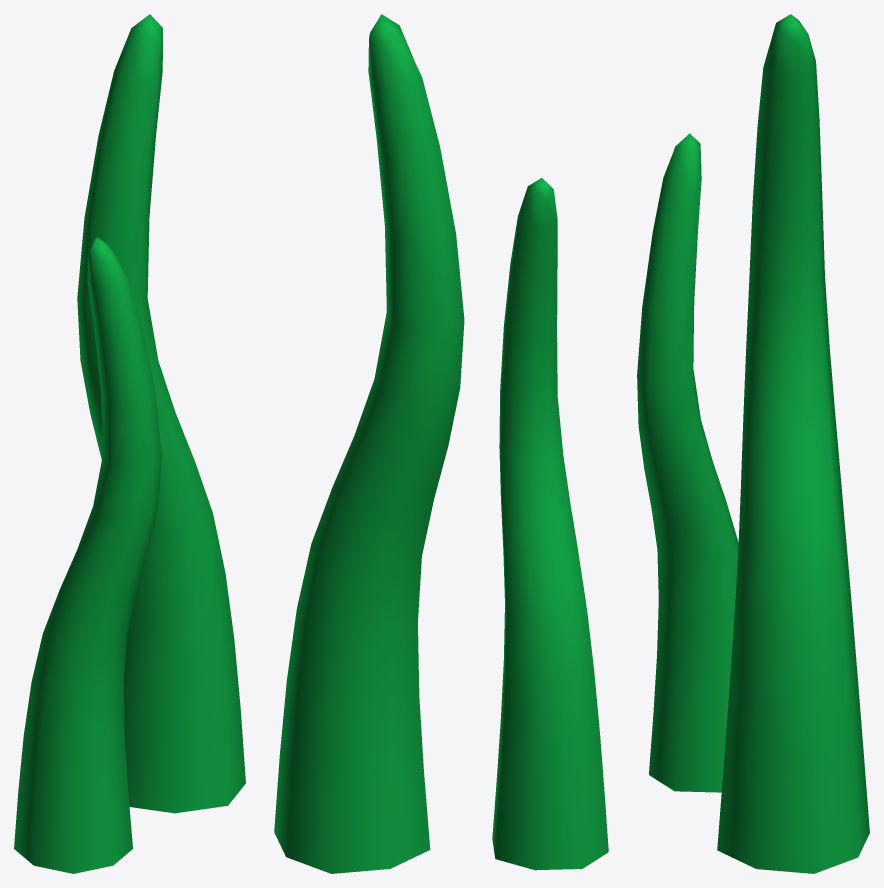
The model's file is Town_16_Grass_2.glb.
The picture shows the model from 3 angles, left to right: view 1: azimuth 30°, elevation 25°; view 2: azimuth 150°, elevation 25°; view 3: azimuth 270°, elevation 25°; orthographic projection. The views are drawn at different scales.
Parts seen in each view (by area): view 1: Town_16_Grass_2; view 2: Town_16_Grass_2; view 3: Town_16_Grass_2.
Boxes of the visible parts, box(x1,y1,x2,y2) form: Town_16_Grass_2: box(14, 14, 245, 873); Town_16_Grass_2: box(274, 14, 608, 873); Town_16_Grass_2: box(637, 14, 869, 873).
Size of the model in its own units: 0.2377 by 0.6966 by 0.1805.
1 material, 1 textured.
